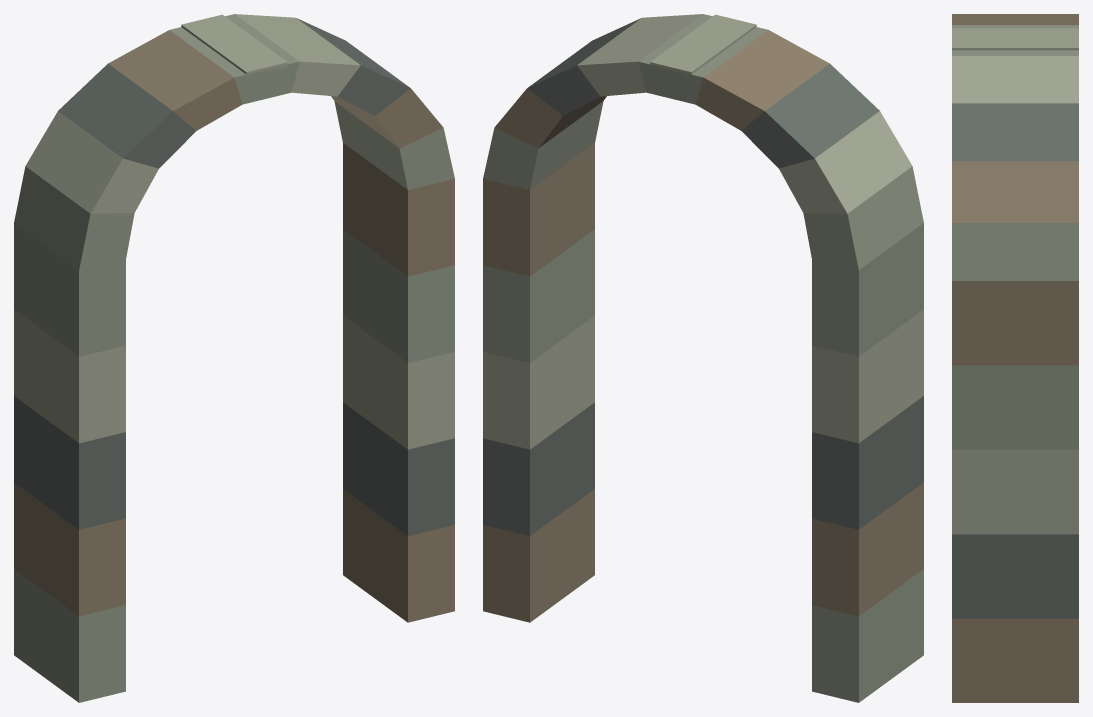
Rendered from TW_RUIN_ARCH_DOOR_A_LOD1.glb.
3 renders of one model, left to right at view 1: azimuth 30°, elevation 25°; view 2: azimuth 150°, elevation 25°; view 3: azimuth 270°, elevation 25°, orthographic. The views are drawn at different scales.
Parts seen in each view (by area): view 1: TW_RUIN_ARCH_DOOR_A; view 2: TW_RUIN_ARCH_DOOR_A; view 3: TW_RUIN_ARCH_DOOR_A.
Boxes of the visible parts, x1,y1,x2,y2 form: TW_RUIN_ARCH_DOOR_A: (14,14,454,702); TW_RUIN_ARCH_DOOR_A: (483,14,923,702); TW_RUIN_ARCH_DOOR_A: (952,14,1078,702).
Bounding box in the file's own units: 2 × 3 × 0.6.
